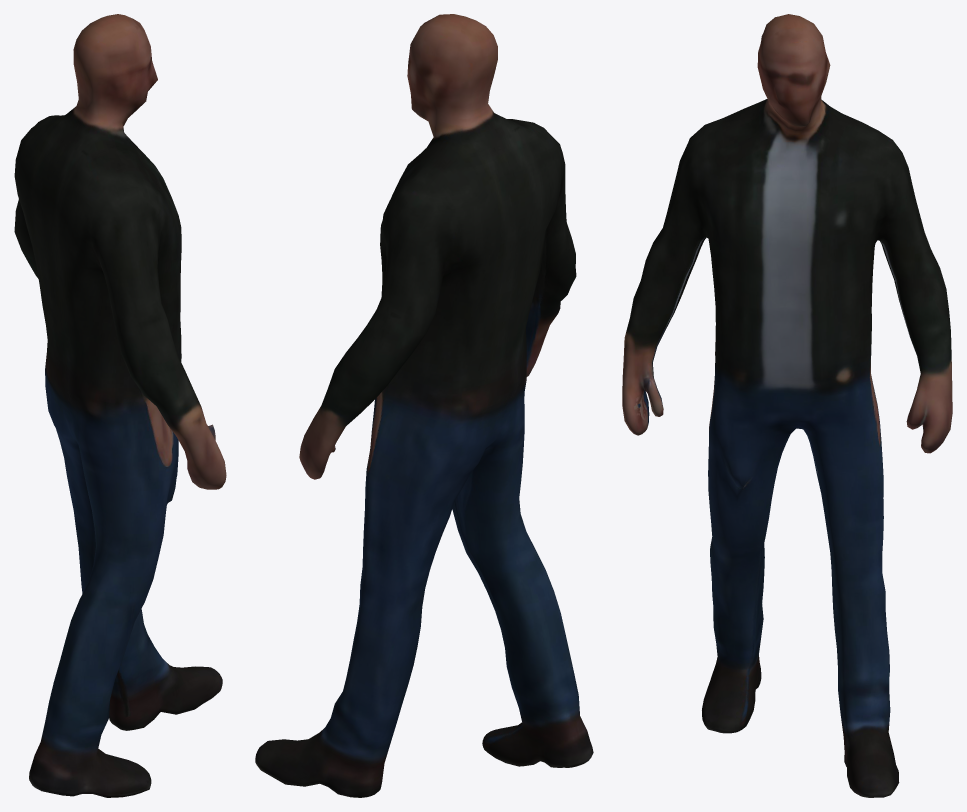
Rendered from escalahombre.obj.
3 views of the same model, side by side, from view 1: azimuth 30°, elevation 25°; view 2: azimuth 150°, elevation 25°; view 3: azimuth 270°, elevation 25° (orthographic). The views are drawn at different scales.
Parts seen in each view (by area): view 1: escalahombre; view 2: escalahombre; view 3: escalahombre.
Part boxes in pixels (left/top/right/bottom): escalahombre: left=14, top=14, right=226, bottom=797; escalahombre: left=255, top=14, right=593, bottom=797; escalahombre: left=622, top=14, right=952, bottom=797.
Bounding box in the file's own units: 0.5032 × 1.4 × 0.5806.
1 material, 1 textured.
